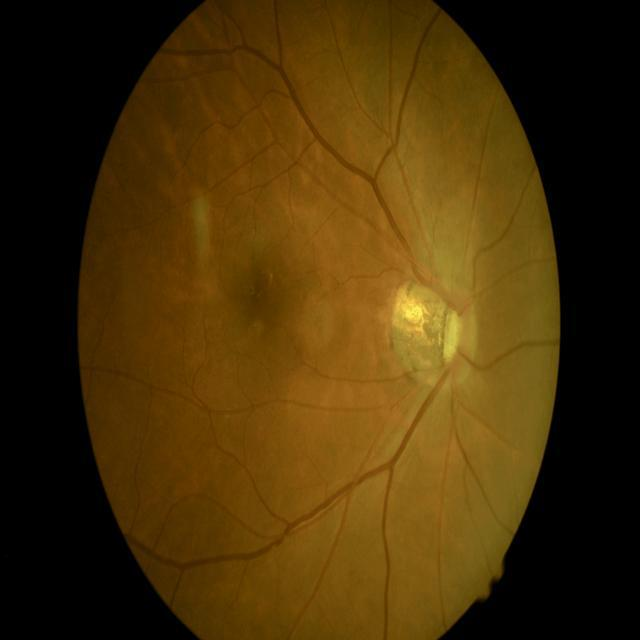cup: (442, 308, 463, 369)
disk: (439, 296, 475, 388)
